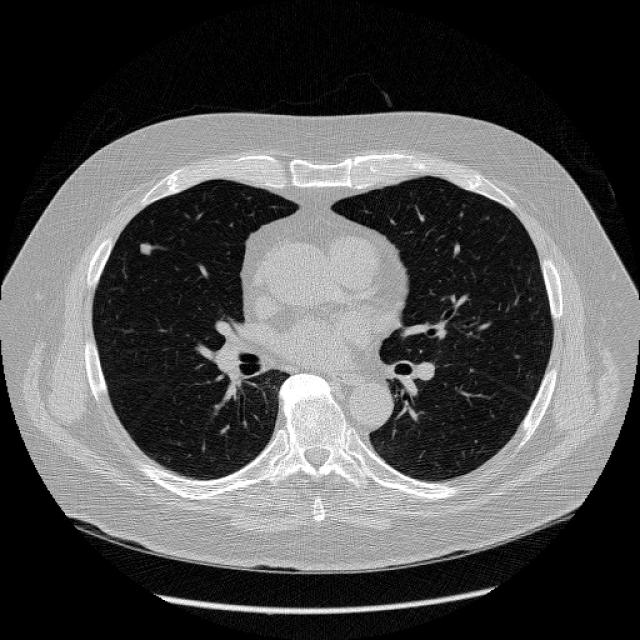nodule: (132, 235, 156, 260)
